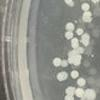white: (66, 50, 83, 66), (79, 87, 96, 100), (63, 84, 76, 97), (55, 70, 68, 82), (69, 68, 80, 82), (50, 56, 62, 68), (76, 76, 88, 88), (71, 45, 85, 55), (63, 21, 75, 32), (81, 15, 95, 24), (63, 30, 74, 41), (74, 88, 85, 99), (79, 38, 90, 48), (70, 37, 80, 48), (79, 31, 91, 40), (74, 26, 84, 36), (59, 58, 69, 68), (80, 2, 91, 11), (82, 10, 94, 17), (63, 94, 75, 100), (67, 1, 75, 8), (61, 0, 74, 4), (74, 18, 80, 26), (89, 0, 100, 4)
